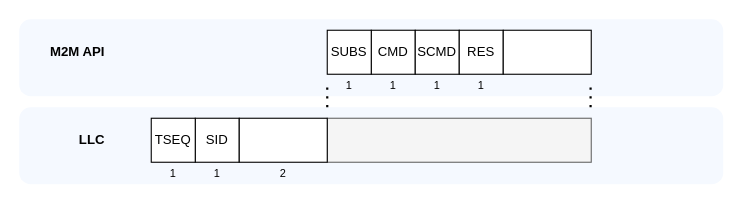
The diagram is 741 pixels wide and 202 high, and some of its shapes have lost their labels. Here are the shapes that lost their labels. From the top down, the centre of each, then its label:
the point at 546,51: Args
the point at 282,139: Length
